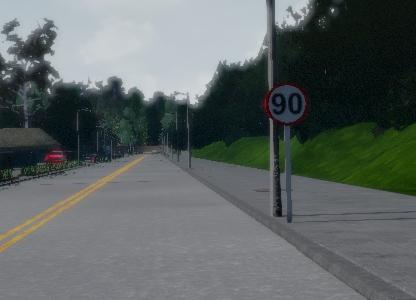Speed_90: (263, 81, 311, 128)
